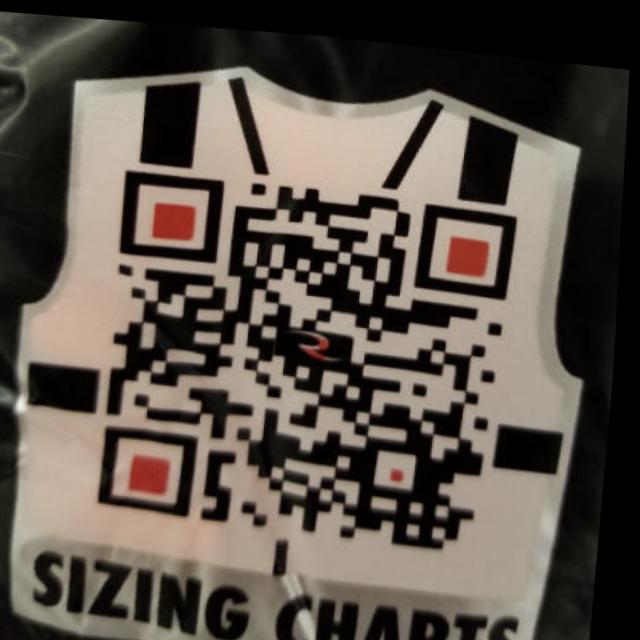QR_CODE: (50, 126, 565, 571)
